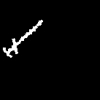double_crochet: (3, 20, 42, 56)
